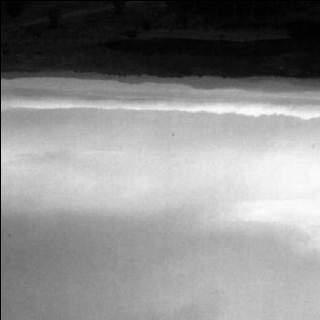Stratus: (0, 83, 315, 320)
